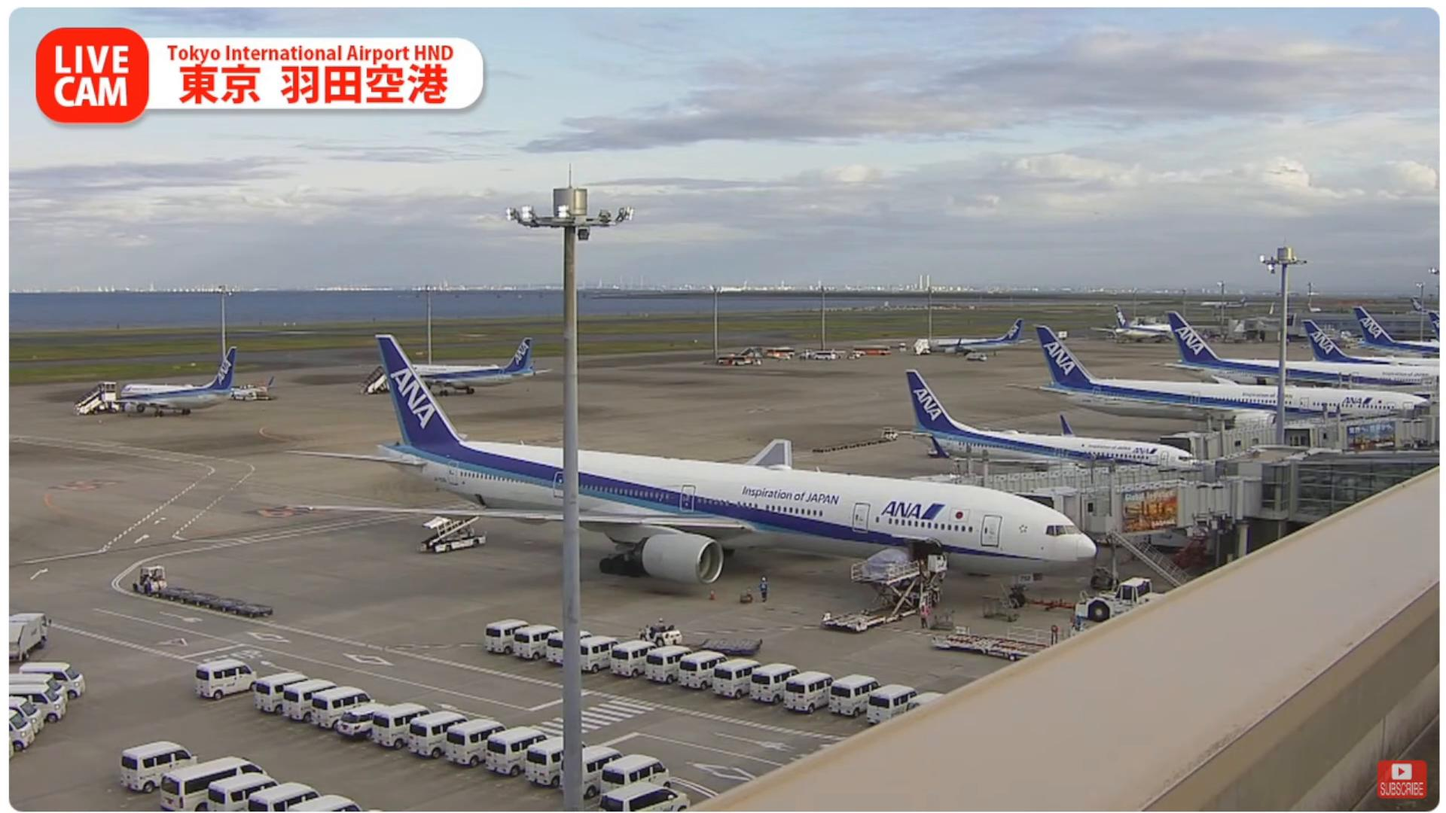APS: (1079, 573, 1177, 624)
Aerobridge: (937, 438, 1217, 490), (1025, 480, 1229, 535)
Airplane: (279, 328, 1098, 610)
Dolly: (152, 586, 285, 623)
JCPL: (808, 544, 947, 637), (944, 622, 1066, 653)
Skyloader: (417, 513, 486, 554)
Tractor: (127, 563, 170, 597)
Window: (1286, 455, 1435, 523)
